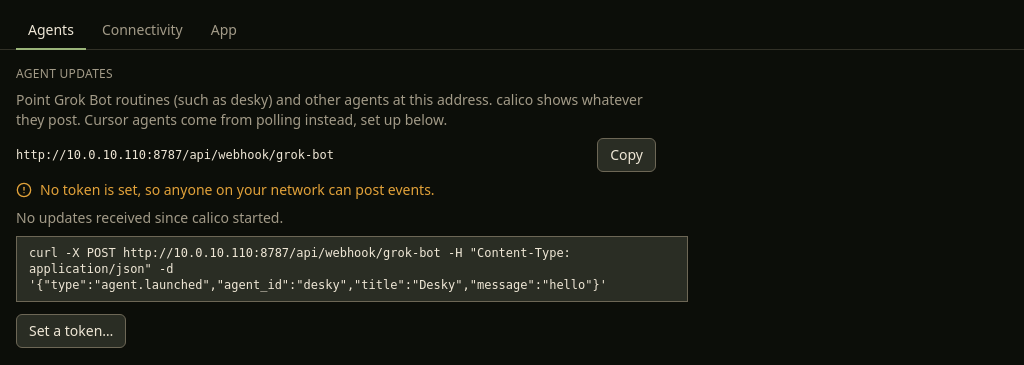
Test case: SettingsView › shows the Wi-Fi networks under Connectivity even without the server
Click the tab "Connectivity".
click(142, 31)  # box [90,12,195,50]
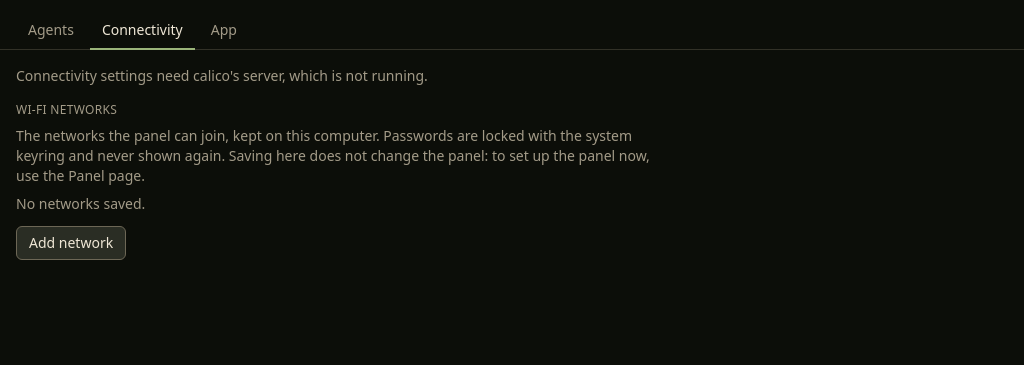
Result: the number of panels is 1 at [16,66,650,260]
Result: the panel shows "Wi-Fi networks" at [16,101,117,118]
Result: the text "No networks saved." is shown at [16,194,145,213]
